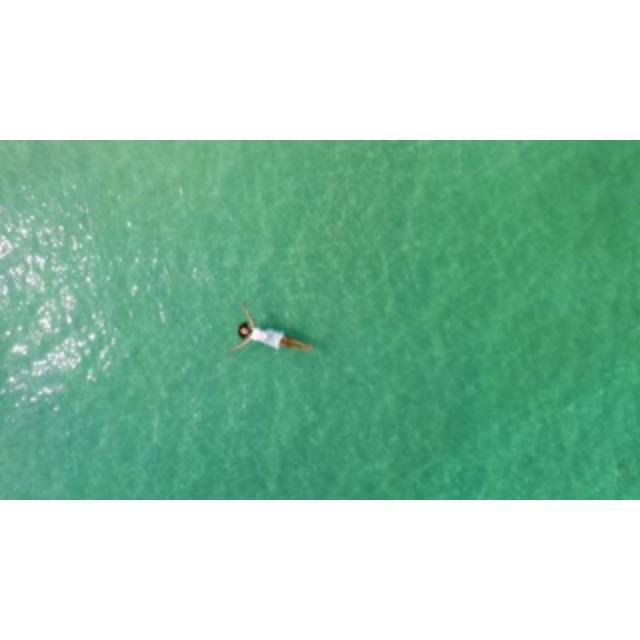human: (230, 301, 316, 355)
